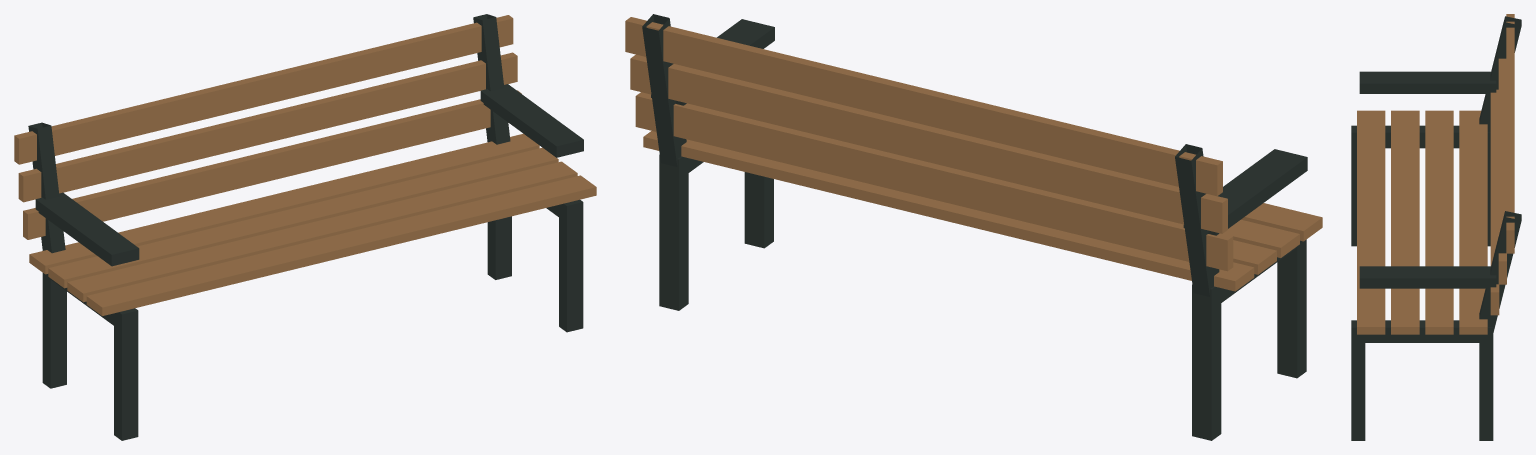
Rendered from sf_bench.glb.
3 views of the same model, side by side, from view 1: azimuth 30°, elevation 25°; view 2: azimuth 150°, elevation 25°; view 3: azimuth 270°, elevation 25° (orthographic). The views are drawn at different scales.
Visible parts, largest first — view 1: sf_bench; view 2: sf_bench; view 3: sf_bench.
Part boxes in pixels (x1,y1,x2,y2): sf_bench: [14, 14, 596, 440]; sf_bench: [625, 14, 1322, 440]; sf_bench: [1351, 14, 1521, 440].
Size of the model in its own units: 1.8 by 0.8667 by 0.5993.
Materials: 1 (1 with a texture image).
